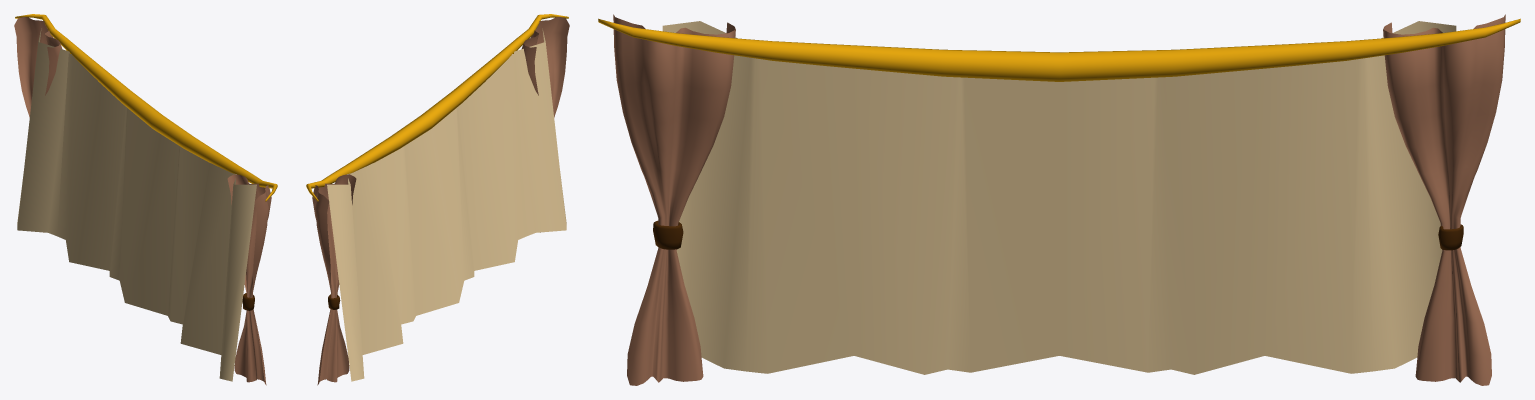
The model's file is Light_Window_Model.fbx.
3 renders of one model, left to right at view 1: azimuth 30°, elevation 25°; view 2: azimuth 150°, elevation 25°; view 3: azimuth 270°, elevation 25°, orthographic. The views are drawn at different scales.
Parts seen in each view (by area): view 1: Window_Curtain, Window_Sides, Window_Stick; view 2: Window_Curtain, Window_Sides, Window_Stick; view 3: Window_Curtain, Window_Sides, Window_Stick, Window_Donut_Left.
Part boxes in pixels (<box>): Window_Curtain: <box>17,28,256,381</box>; Window_Sides: <box>14,17,271,385</box>; Window_Stick: <box>15,14,277,201</box>; Window_Curtain: <box>327,28,566,381</box>; Window_Sides: <box>312,17,569,385</box>; Window_Stick: <box>306,14,568,201</box>; Window_Curtain: <box>662,21,1456,374</box>; Window_Sides: <box>613,14,1505,385</box>; Window_Stick: <box>598,18,1520,81</box>; Window_Donut_Left: <box>653,220,1463,250</box>.
Size of the model in its own units: 515 by 227 by 55.48.
